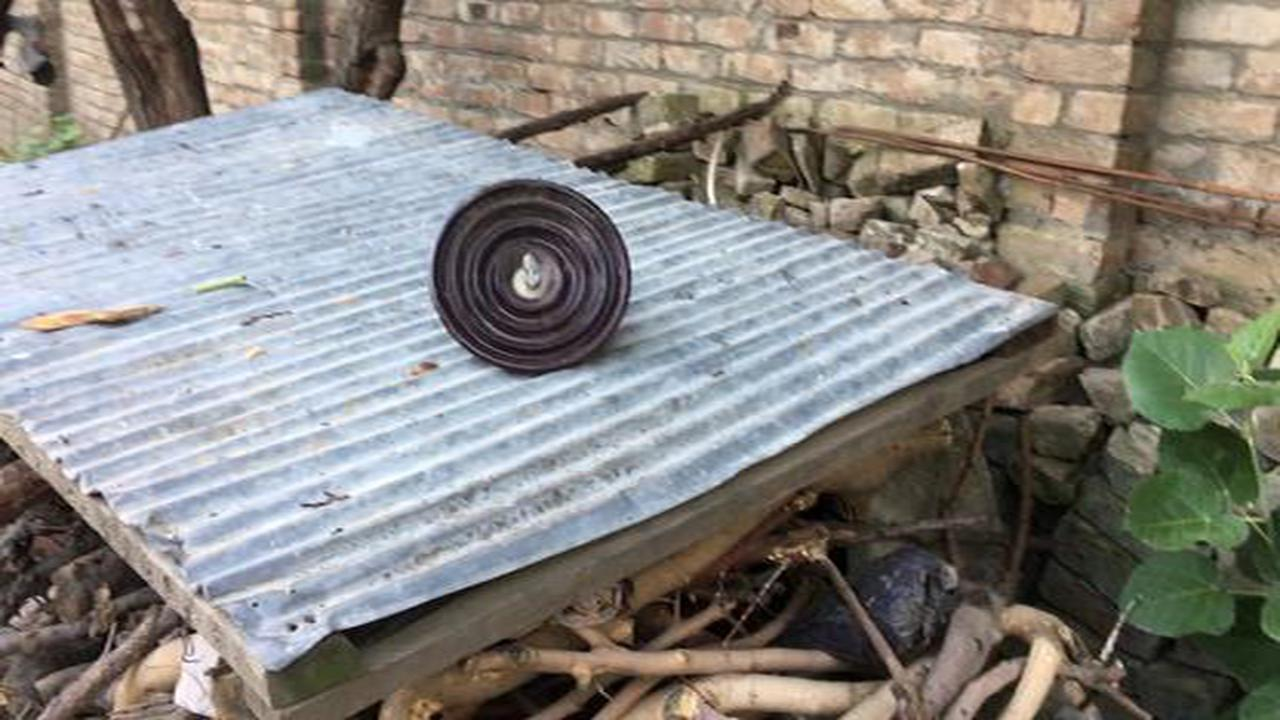insulator_disc: (425, 174, 639, 377)
